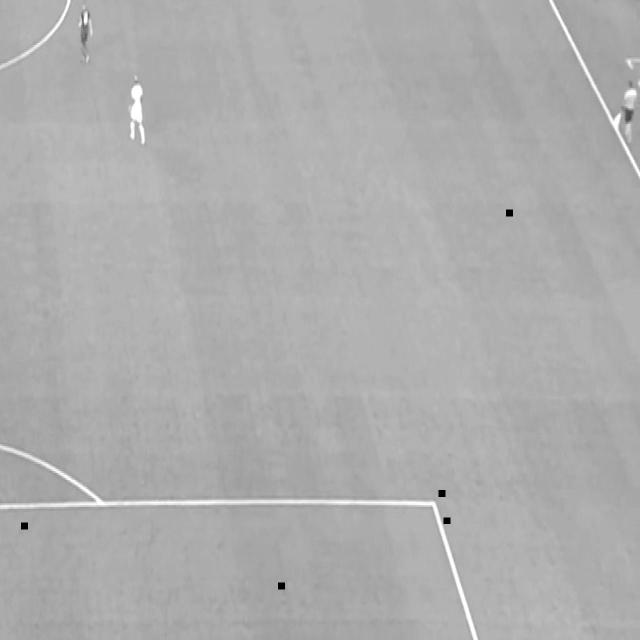player-white: (126, 71, 148, 149), (77, 0, 95, 70), (622, 80, 636, 150)
